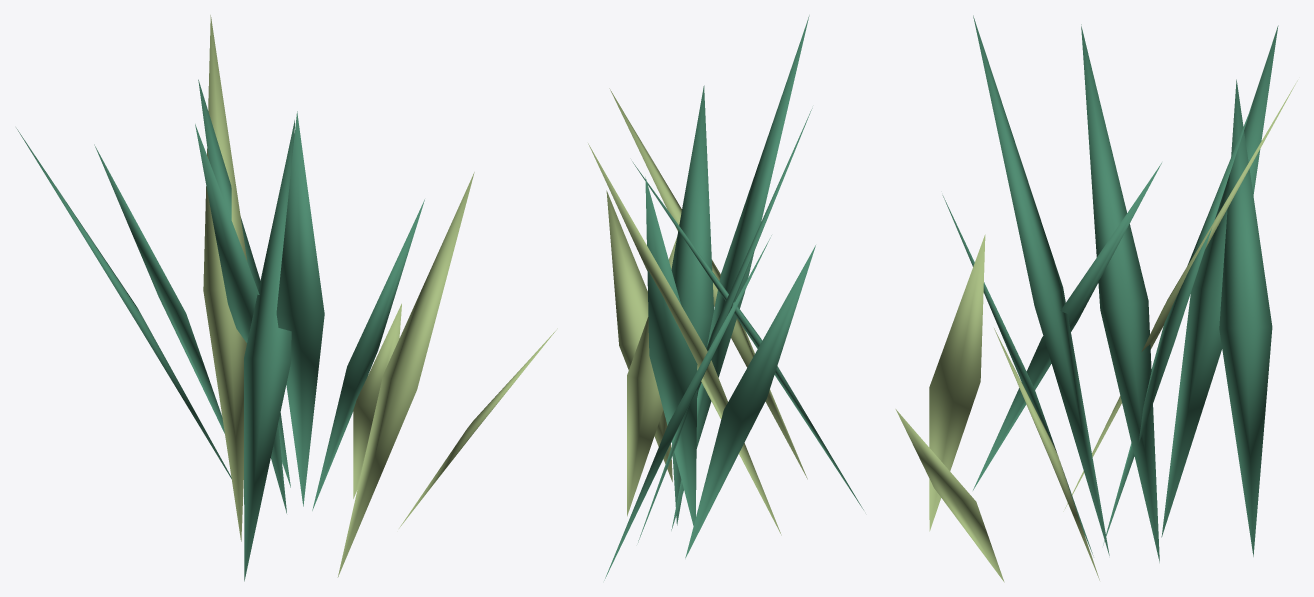
The model's file is grass-tuft.glb.
3 views of the same model, side by side, from view 1: azimuth 30°, elevation 25°; view 2: azimuth 150°, elevation 25°; view 3: azimuth 270°, elevation 25° (orthographic). The views are drawn at different scales.
Parts seen in each view (by area): view 1: Vesper / grass-tuft; view 2: Vesper / grass-tuft; view 3: Vesper / grass-tuft.
Part boxes in pixels (x1,y1,x2,y2): Vesper / grass-tuft: (16,15,557,581); Vesper / grass-tuft: (588,15,863,580); Vesper / grass-tuft: (895,15,1297,582).
Size of the model in its own units: 0.7455 by 0.8815 by 0.6372.
